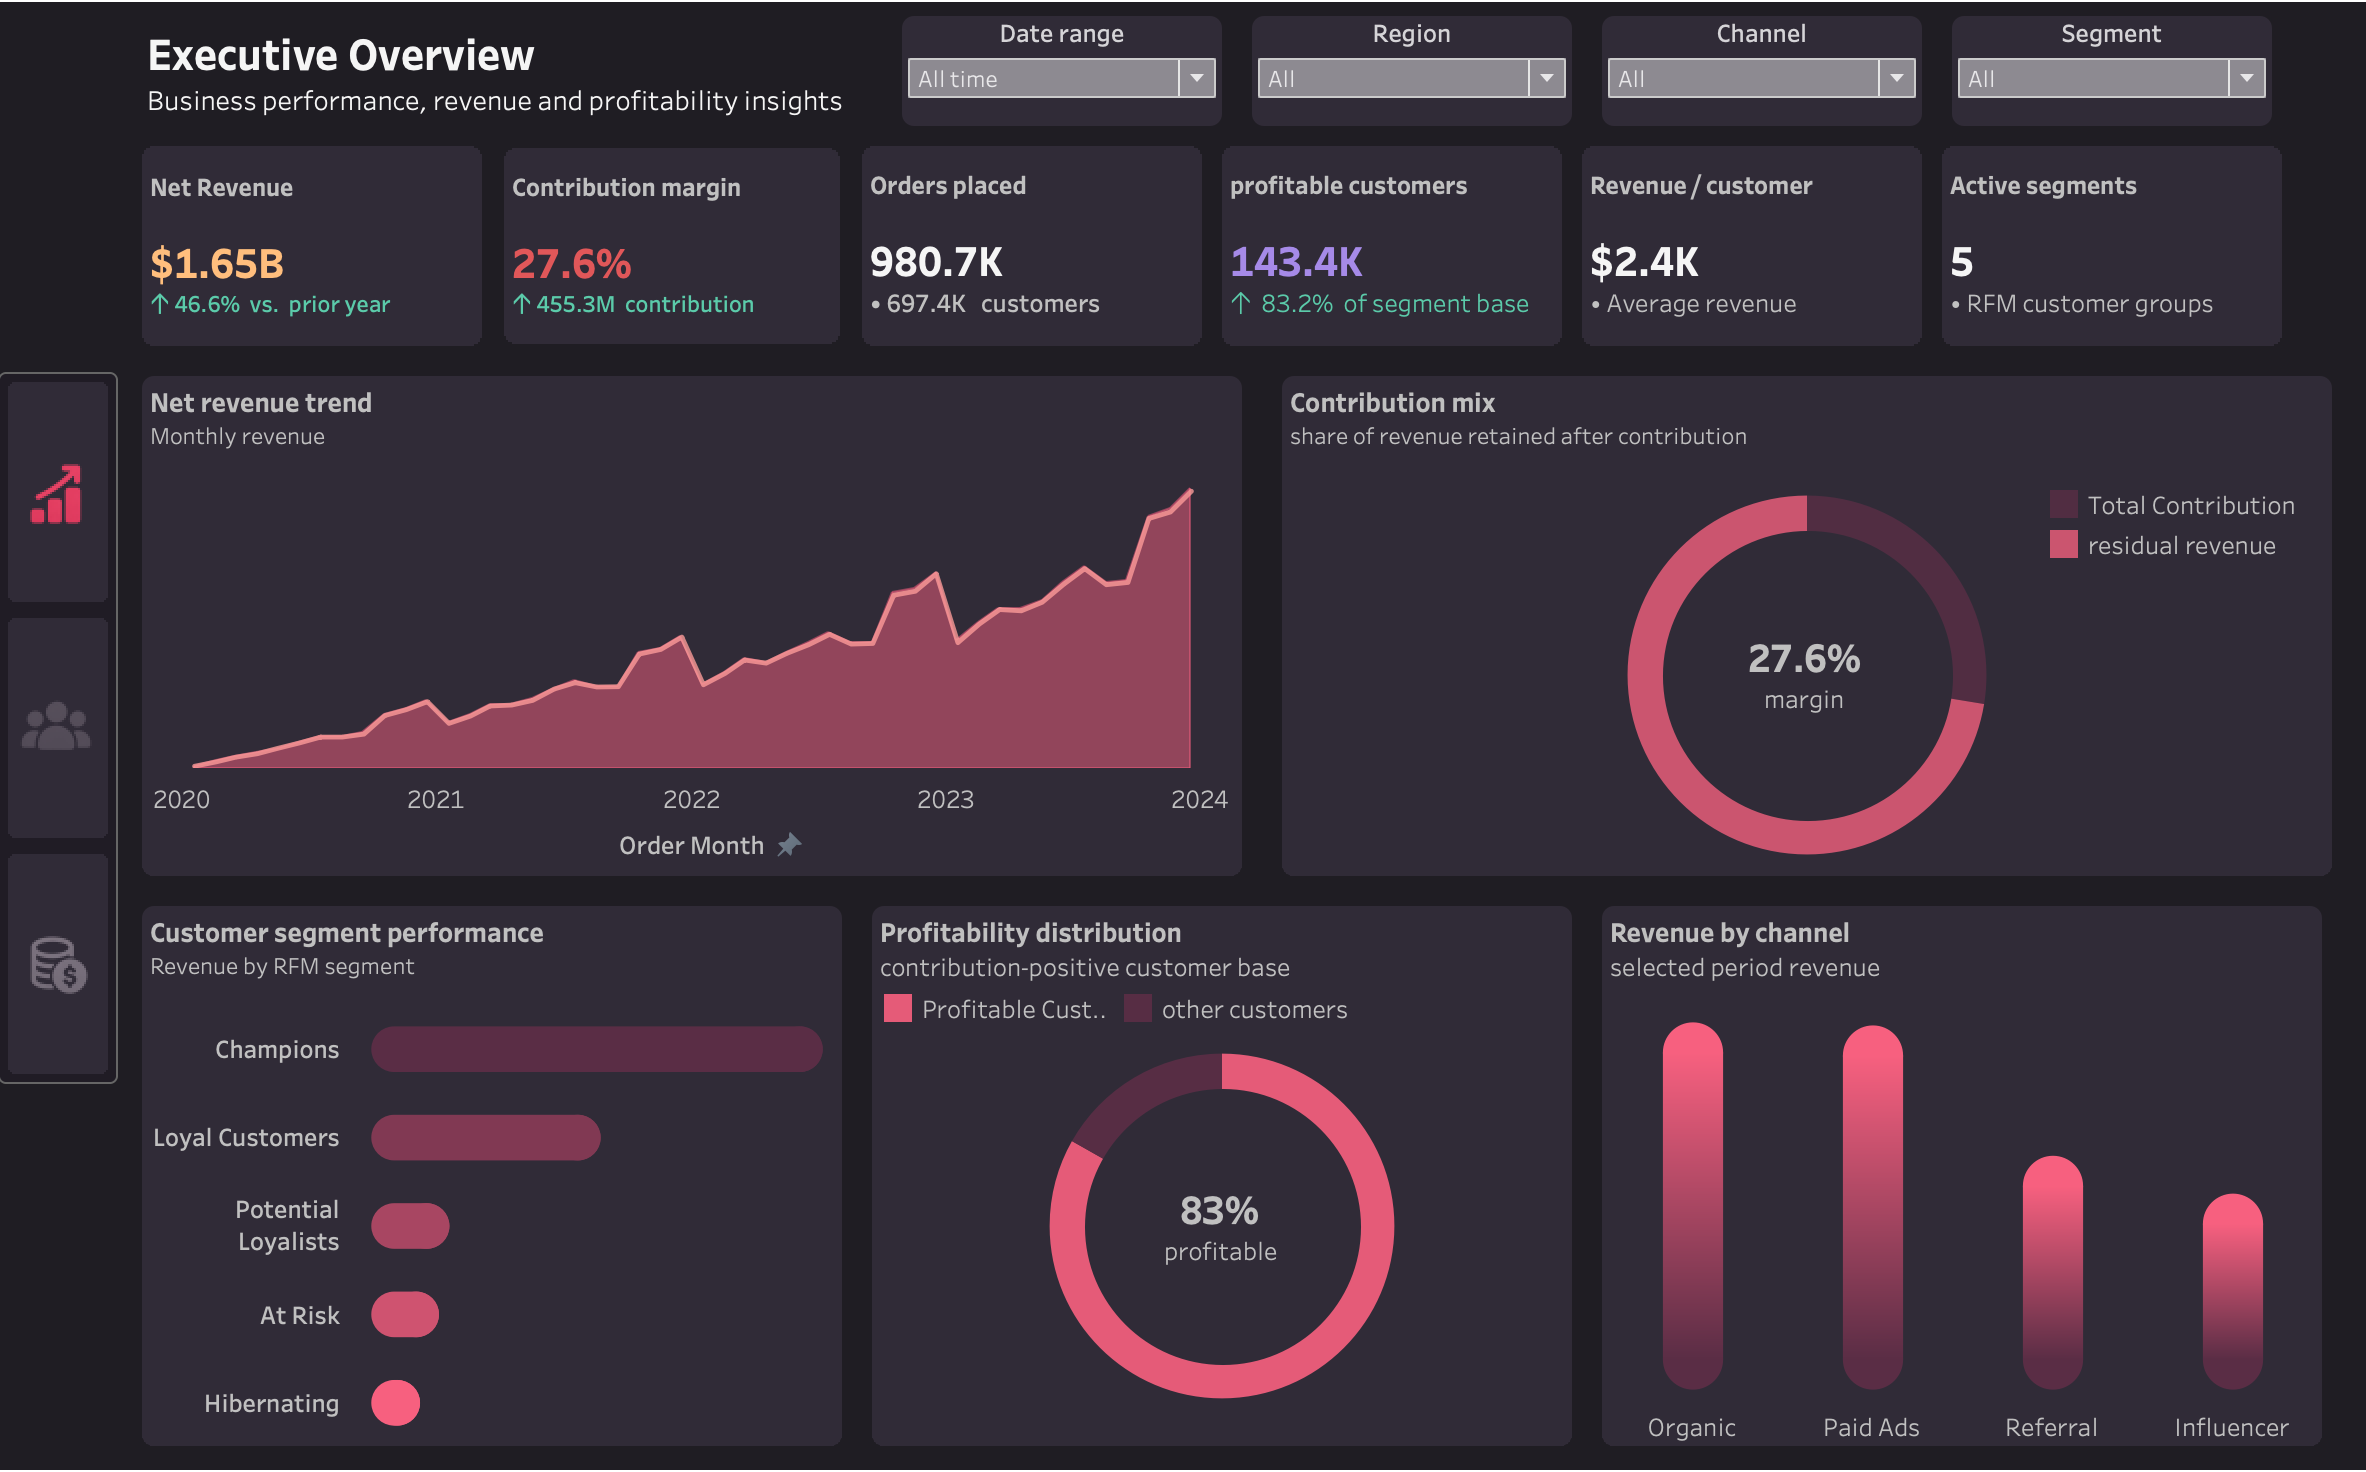

This screenshot's page, from the dashboard's own definition file:
{"tool":"tableau","page":{"name":"Executive overview","canvas":[1200,750],"ordinal":1},"visuals":[{"type":"text","box":[80,15,359,55]},{"type":"parameter","param":"[Parameters].[Parameter 0047692799320069]","box":[460,15,160,55]},{"type":"parameter","param":"[Parameters].[Parameter 4272153822924800]","box":[635,15,160,55]},{"type":"parameter","param":"[Parameters].[Parameter 4272153830629382]","box":[810,15,160,55]},{"type":"parameter","param":"[Parameters].[Parameter 4272153834737676]","box":[985,15,160,55]},{"type":"worksheet","title":"01_kpi_net_revenue","mark":"Automatic","box":[80,80,170,100]},{"type":"worksheet","title":"02_kpi_contribution_margin","mark":"Automatic","box":[260,80,170,100]},{"type":"worksheet","title":"03_kpi_orders_placed ","mark":"Automatic","box":[440,80,170,100]},{"type":"worksheet","title":"04_kpi_profitable_customers","mark":"Automatic","box":[620,80,170,100]},{"type":"worksheet","title":"05_kpi_revenue/customer","mark":"Automatic","box":[800,80,170,100]},{"type":"worksheet","title":"06_kpi_active_segments","mark":"Automatic","box":[980,80,170,100]},{"type":"dashboard-object","box":[9,194,58,118]},{"type":"worksheet","title":"07_net_revenue_trend","mark":"Area","rows":["NET_REVENUE","NET_REVENUE"],"cols":["ORDER_MONTH"],"box":[80,195,550,250]},{"type":"worksheet","title":"08_contribution_margin","mark":"Circle","rows":["Calculation_3103921468719110","Calculation_3103921468719110"],"box":[650,195,525,250]},{"type":"legend","title":"08_contribution_margin","param":"[federated.0t1uppm08pu53j12ayyug1neetqt].[:Measure Names]","box":[1031,249,140,91]},{"type":"dashboard-object","box":[9,312,58,118]},{"type":"dashboard-object","box":[9,430,58,118]},{"type":"worksheet","title":"09_customer_segment","mark":"Line","rows":["CUSTOMER_SEGMENT"],"box":[80,460,350,270]},{"type":"worksheet","title":"10_profitability_distribution","mark":"Pie","rows":["Calculation_2765340782059524","Calculation_2765340782059524"],"box":[445,460,350,270]},{"type":"worksheet","title":"11_revenue_by_channel","mark":"Line","cols":["ACQUISITION_CHANNEL"],"box":[810,460,360,270]},{"type":"legend","title":"10_profitability_distribution","param":"[federated.0mdbu9e0f86hfc1fn1eey0h1ge9i].[:Measure Names]","box":[448,501,242,27]}]}

Visuals, with their boxes in screenshot pixels (x1, y1, x2, y2), scaled from the page's 1200x750 canvas onto the 2366x1472 screenshot:
text: (left=158, top=29, right=866, bottom=137)
parameter: (left=907, top=29, right=1222, bottom=137)
parameter: (left=1252, top=29, right=1567, bottom=137)
parameter: (left=1597, top=29, right=1913, bottom=137)
parameter: (left=1942, top=29, right=2258, bottom=137)
"01_kpi_net_revenue" worksheet: (left=158, top=157, right=493, bottom=353)
"02_kpi_contribution_margin" worksheet: (left=513, top=157, right=848, bottom=353)
"03_kpi_orders_placed " worksheet: (left=868, top=157, right=1203, bottom=353)
"04_kpi_profitable_customers" worksheet: (left=1222, top=157, right=1558, bottom=353)
"05_kpi_revenue/customer" worksheet: (left=1577, top=157, right=1913, bottom=353)
"06_kpi_active_segments" worksheet: (left=1932, top=157, right=2267, bottom=353)
dashboard-object: (left=18, top=381, right=132, bottom=612)
"07_net_revenue_trend" worksheet (Area marks): (left=158, top=383, right=1242, bottom=873)
"08_contribution_margin" worksheet (Circle marks): (left=1282, top=383, right=2317, bottom=873)
"08_contribution_margin" legend: (left=2033, top=489, right=2309, bottom=667)
dashboard-object: (left=18, top=612, right=132, bottom=844)
dashboard-object: (left=18, top=844, right=132, bottom=1076)
"09_customer_segment" worksheet (Line marks): (left=158, top=903, right=848, bottom=1433)
"10_profitability_distribution" worksheet (Pie marks): (left=877, top=903, right=1567, bottom=1433)
"11_revenue_by_channel" worksheet (Line marks): (left=1597, top=903, right=2307, bottom=1433)
"10_profitability_distribution" legend: (left=883, top=983, right=1360, bottom=1036)
